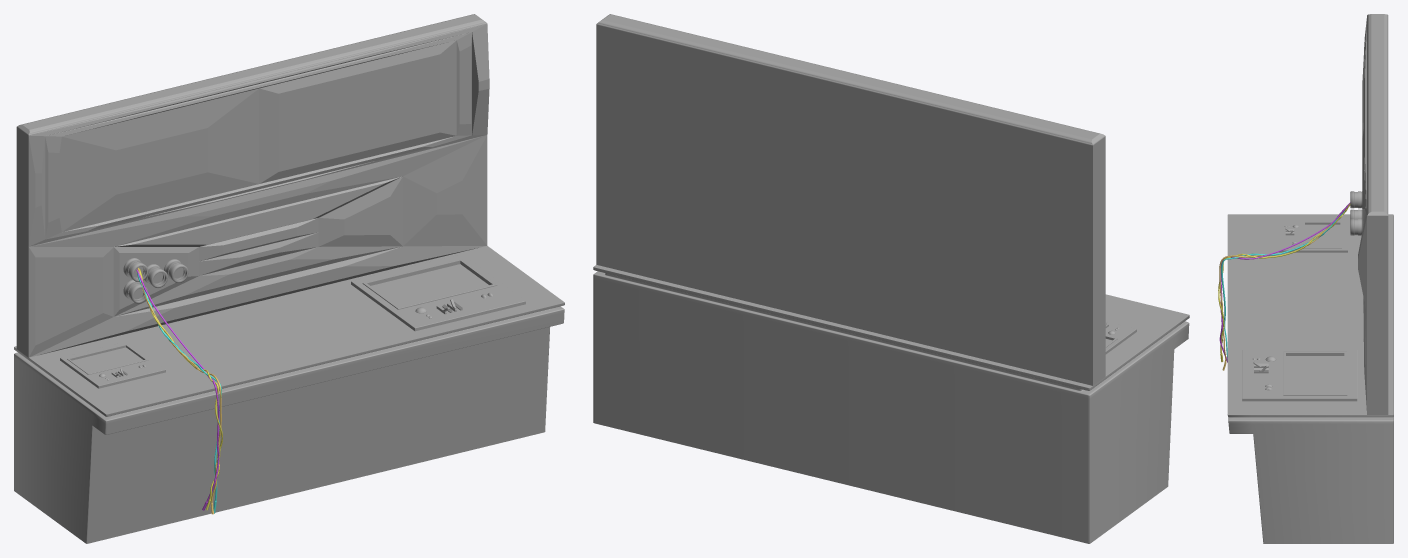
Rendered from Ship_Console.fbx.
3 renders of one model, left to right at view 1: azimuth 30°, elevation 25°; view 2: azimuth 150°, elevation 25°; view 3: azimuth 270°, elevation 25°, orthographic. The views are drawn at different scales.
Visible parts, largest first — view 1: Discom_Backsplash, Base, Monitor_Panels, Backsplash, Cables1; view 2: Backsplash, Base; view 3: Base, Backsplash, Monitor_Panels, Discom_Backsplash, Cables1.
Boxes of the visible parts, bbox=[...] form: Discom_Backsplash: bbox=[28, 24, 489, 357]; Base: bbox=[14, 245, 564, 543]; Monitor_Panels: bbox=[60, 254, 525, 388]; Backsplash: bbox=[16, 14, 487, 357]; Cables1: bbox=[136, 267, 222, 514]; Backsplash: bbox=[596, 14, 1105, 385]; Base: bbox=[593, 265, 1189, 543]; Base: bbox=[1227, 214, 1393, 543]; Backsplash: bbox=[1367, 14, 1388, 414]; Monitor_Panels: bbox=[1242, 221, 1357, 401]; Discom_Backsplash: bbox=[1358, 18, 1366, 410]; Cables1: bbox=[1218, 202, 1350, 370].
Bounding box in the file's own units: 8 × 6.15 × 2.96.
